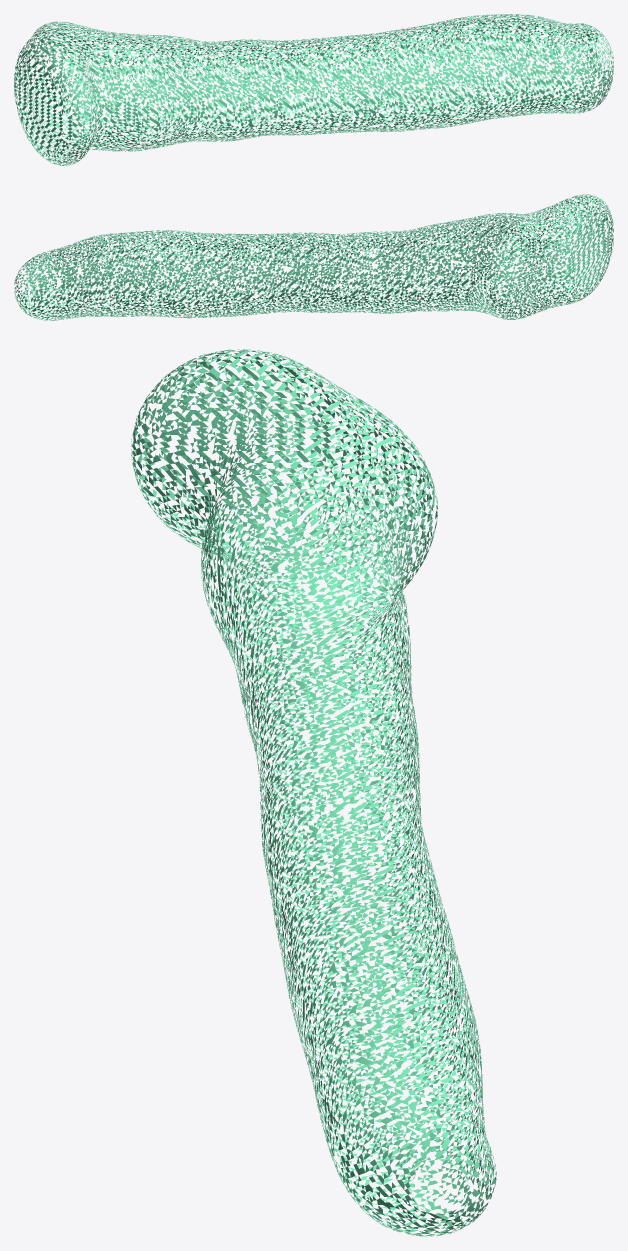
File: healthy.glb
3 views of the same model, one above another, from view 1: azimuth 30°, elevation 25°; view 2: azimuth 150°, elevation 25°; view 3: azimuth 270°, elevation 25° (orthographic). The views are drawn at different scales.
Bounding box in the file's own units: 138 × 51.44 × 41.72.
